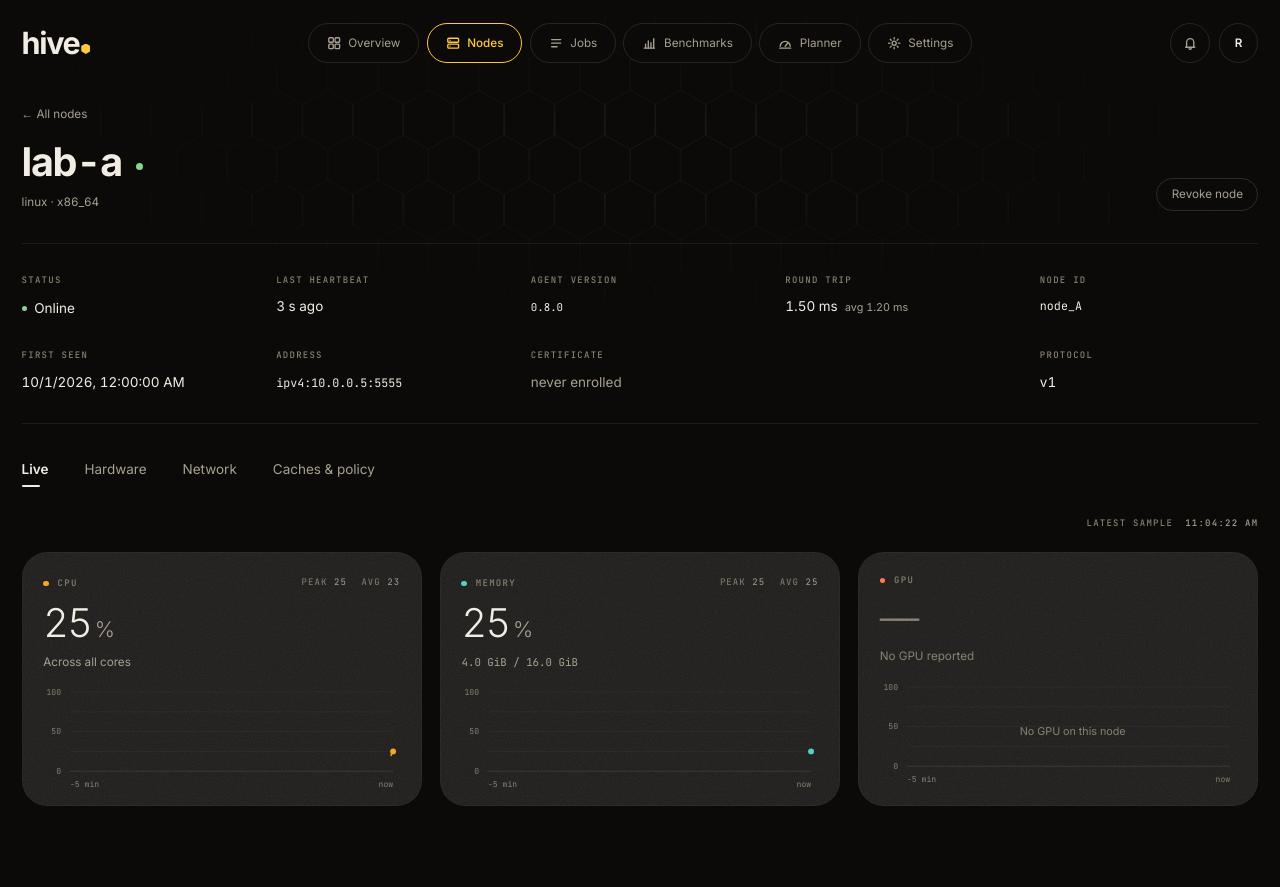
Scenario: Node detail › summary, live samples, hardware, network (stale/unknown labelled), caches and policy
Expected: the heading "lab-a" is shown, x1=22 y1=142 x2=122 y2=184
Expected: the element with test id "node-status" reads "online", x1=34 y1=300 x2=75 y2=316
Step 1. Click the tab "Hardware" → (115, 474), box x1=84 y1=460 x2=146 y2=487
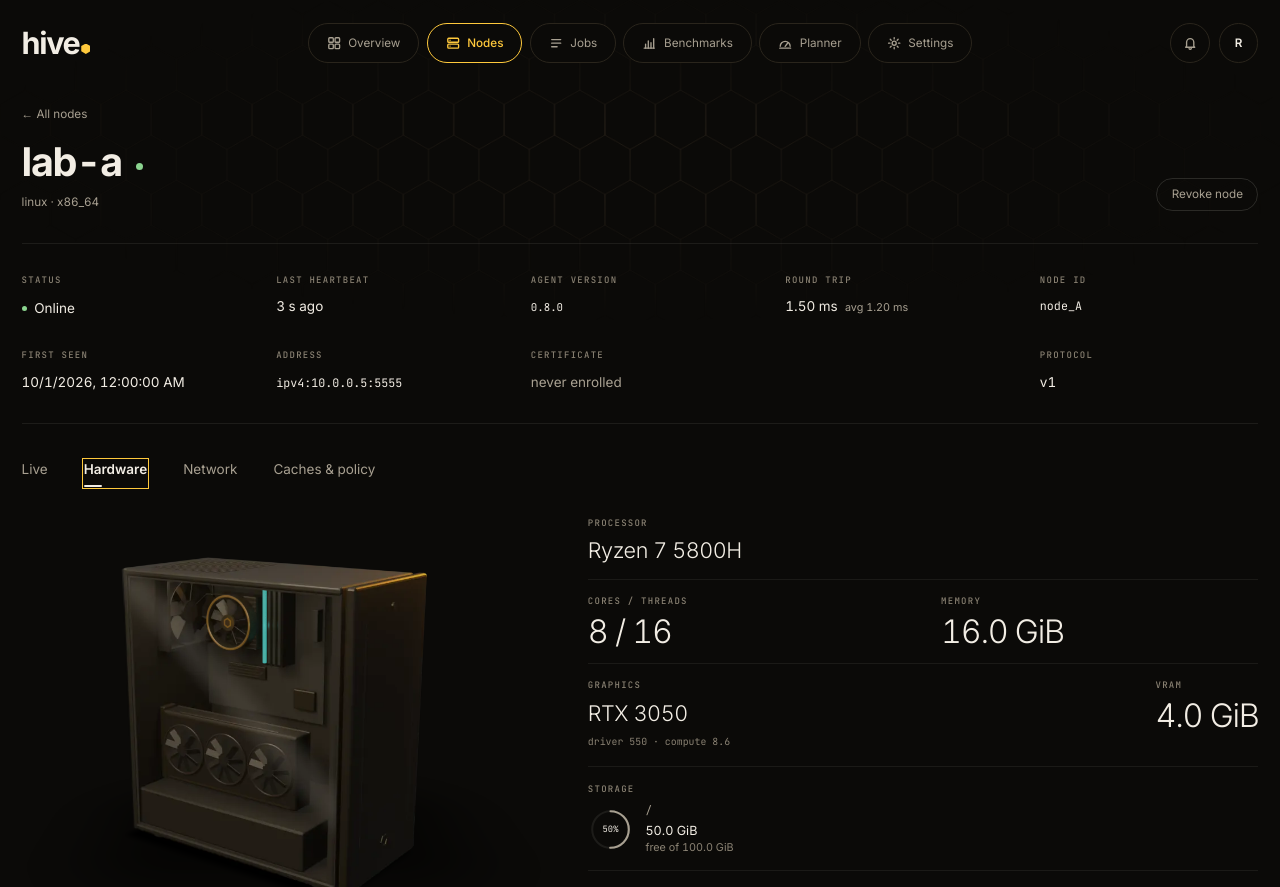
Expected: the element with test id "hardware-card" shows "Ryzen 7 5800H", x1=588 y1=537 x2=742 y2=563
Expected: the element with test id "hardware-card" shows "8 / 16", x1=588 y1=612 x2=672 y2=651
Expected: the element with test id "hardware-card" shows "RTX 3050", x1=588 y1=700 x2=688 y2=726
Step 2. Click the tab "Network" → (210, 474), box x1=183 y1=460 x2=237 y2=487
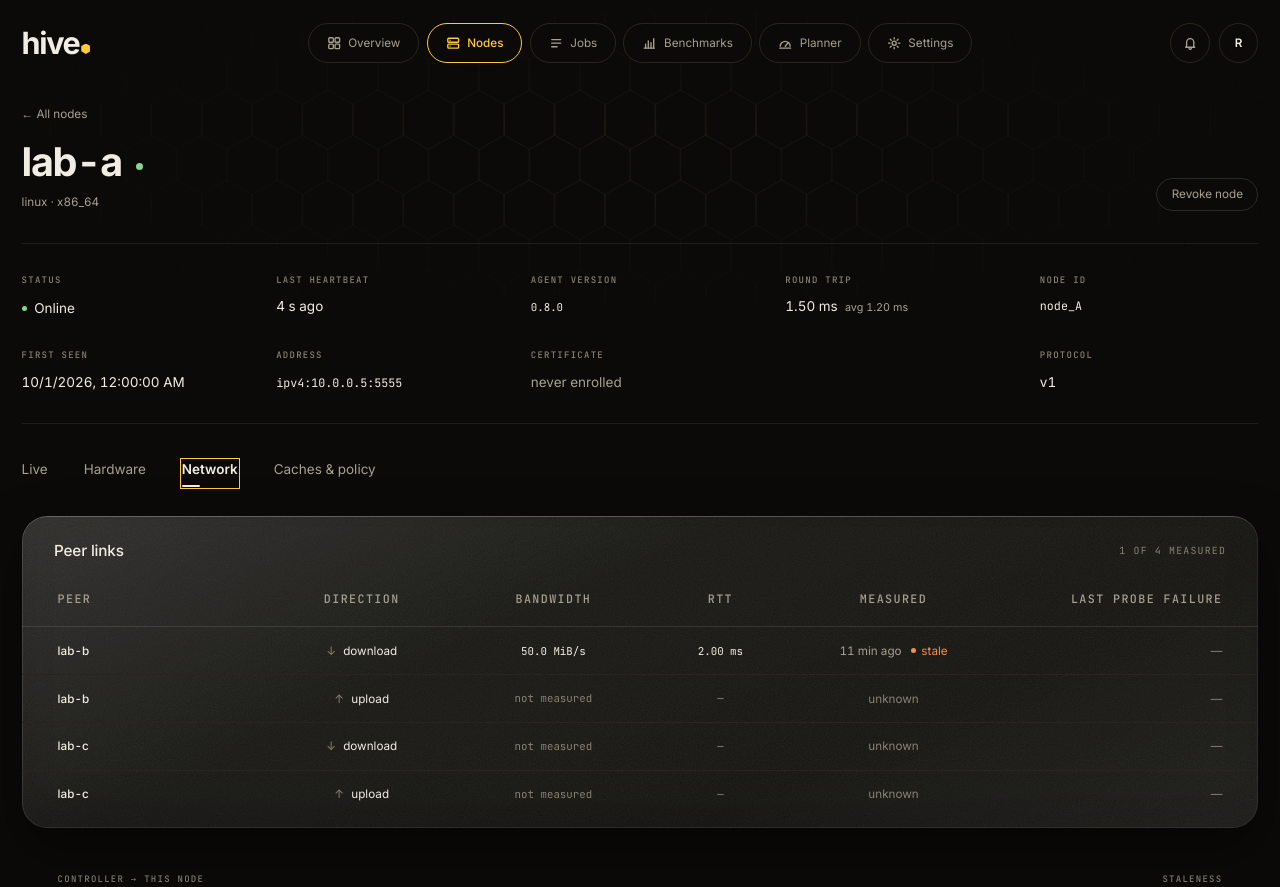
Expected: the element with test id "network-card" shows "50.0 MiB/s", x1=521 y1=644 x2=586 y2=658
Expected: the text "stale" is shown, x1=911 y1=642 x2=948 y2=660
Expected: the 1st text "unknown" is shown, x1=868 y1=692 x2=919 y2=706
Step 3. Click the tab "Caches & policy" → (325, 474), box x1=274 y1=460 x2=376 y2=487
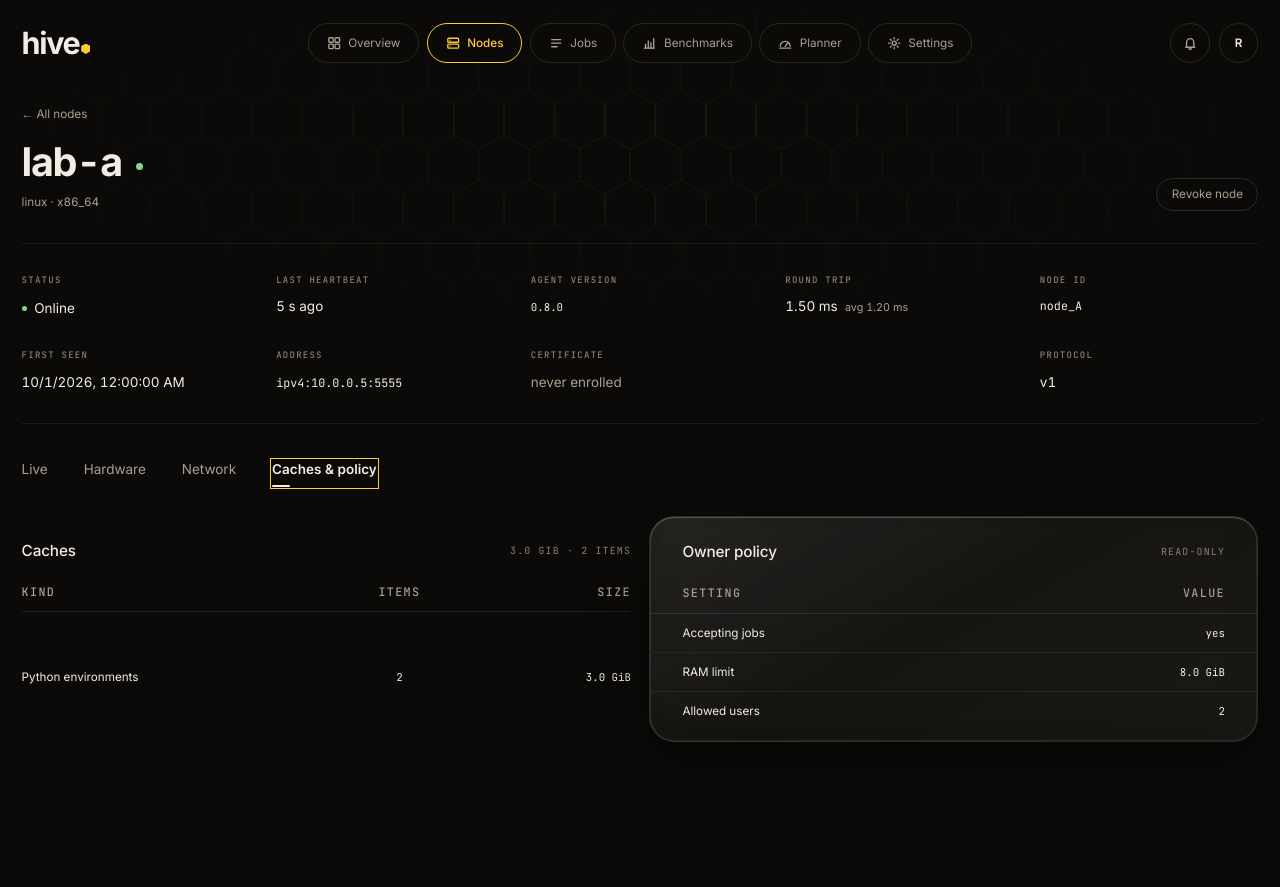
Expected: the element with test id "caches-card" shows "Python environments", x1=22 y1=670 x2=138 y2=684
Expected: the element with test id "caches-card" shows "3.0 GiB", x1=510 y1=544 x2=560 y2=557
Expected: the element with test id "policy-card" shows "RAM limit", x1=682 y1=665 x2=734 y2=679
